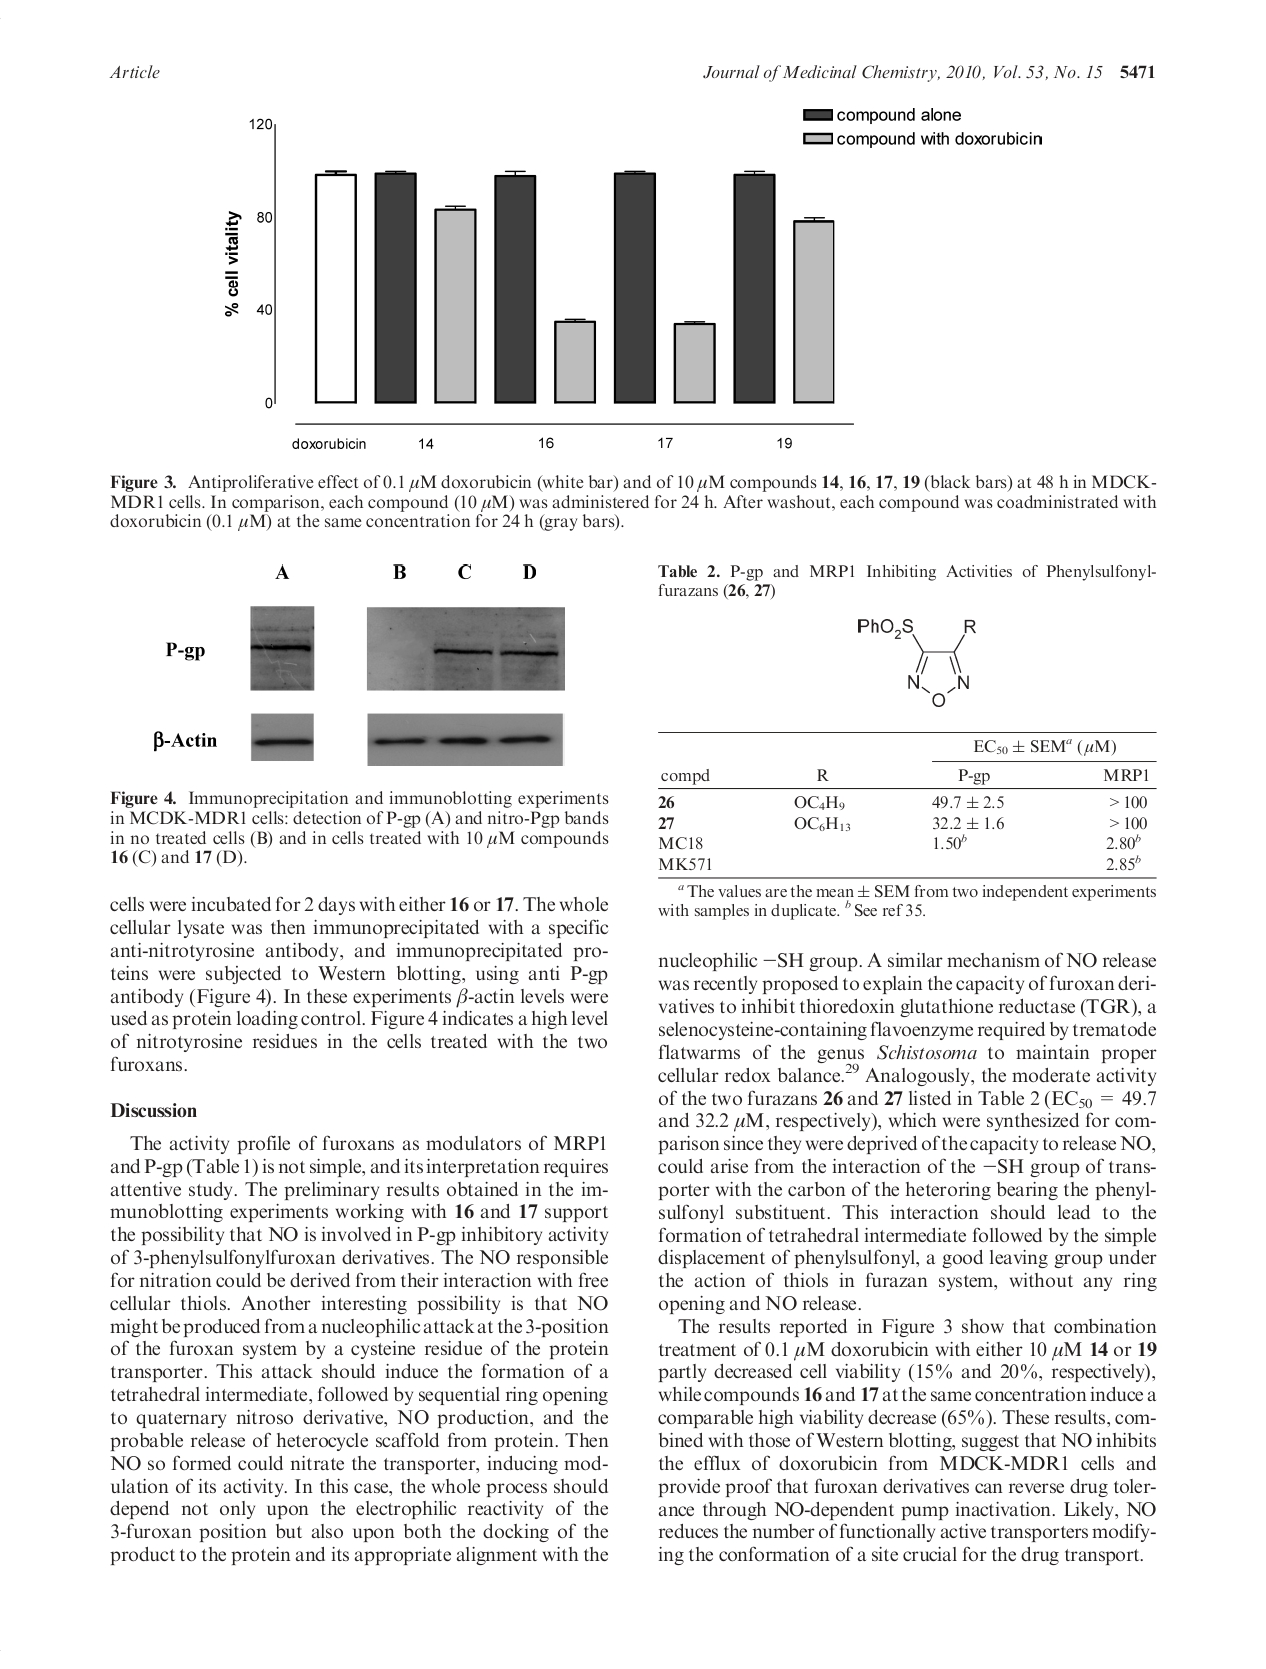exist_molecular: (852, 613, 981, 709)
